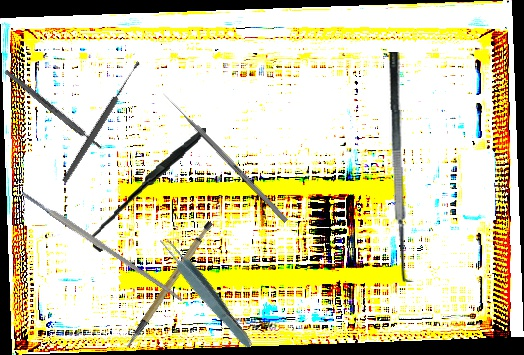Hook Surgical: (85, 127, 214, 253)
Pusher: (161, 90, 289, 224)
Scalpel Handle: (20, 188, 185, 304), (107, 219, 228, 349), (3, 68, 104, 151)
Spatula Surgical: (386, 51, 423, 283)
Surgical Spoon: (60, 60, 143, 184)
Tissue Forceps: (155, 232, 258, 352)
